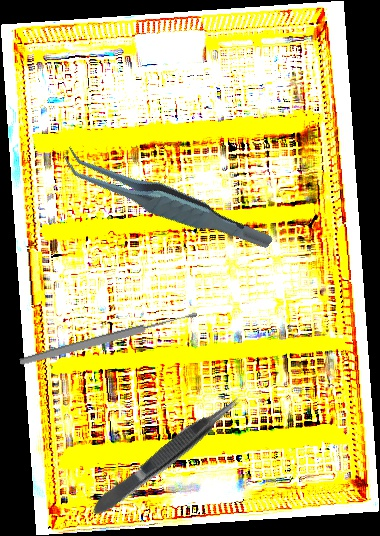Surgical Spoon: (18, 309, 199, 368)
Tissue Forceps: (57, 110, 275, 291), (85, 389, 248, 521)
